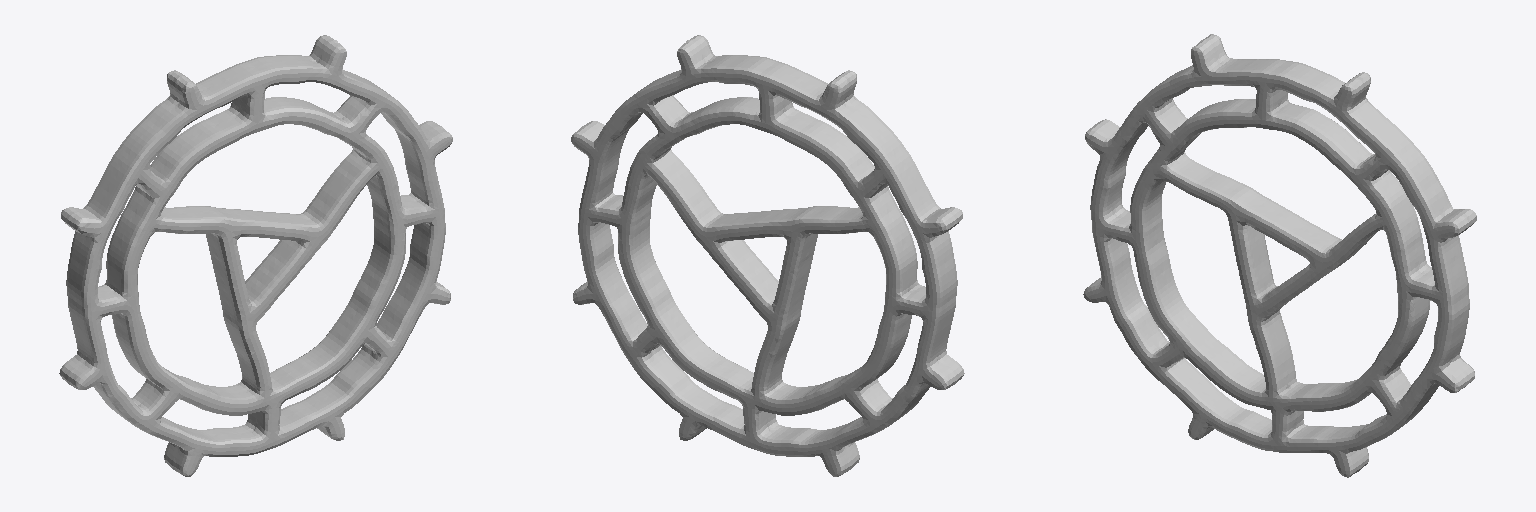
File: Engrane 3.OBJ
The picture shows the model from 3 angles: view 1: azimuth 30°, elevation 25°; view 2: azimuth 150°, elevation 25°; view 3: azimuth 330°, elevation 25°; orthographic projection.
Visible parts, largest first — view 1: Group15290; view 2: Group15290; view 3: Group15290.
Boxes of the visible parts, x1,y1,x2,y2 form: Group15290: [59, 35, 452, 476]; Group15290: [571, 35, 964, 476]; Group15290: [1083, 34, 1476, 477].
Size of the model in its own units: 1.68 by 1.68 by 0.1536.